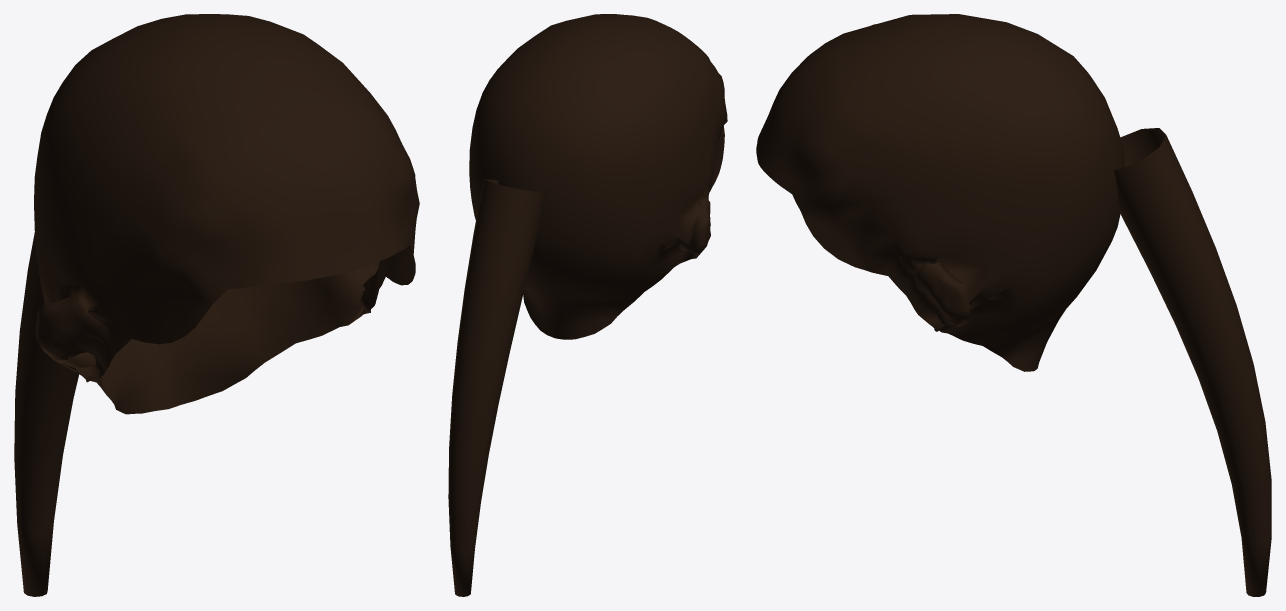
File: hair_ponytail.glb
3 renders of one model, left to right at view 1: azimuth 30°, elevation 25°; view 2: azimuth 150°, elevation 25°; view 3: azimuth 270°, elevation 25°, orthographic. The views are drawn at different scales.
Visible parts, largest first — view 1: hair_ponytail; view 2: hair_ponytail; view 3: hair_ponytail.
Boxes of the visible parts, bbox=[...] form: hair_ponytail: bbox=[14, 14, 419, 596]; hair_ponytail: bbox=[448, 14, 727, 596]; hair_ponytail: bbox=[756, 14, 1271, 596].
Size of the model in its own units: 0.1987 by 0.379 by 0.3158.
